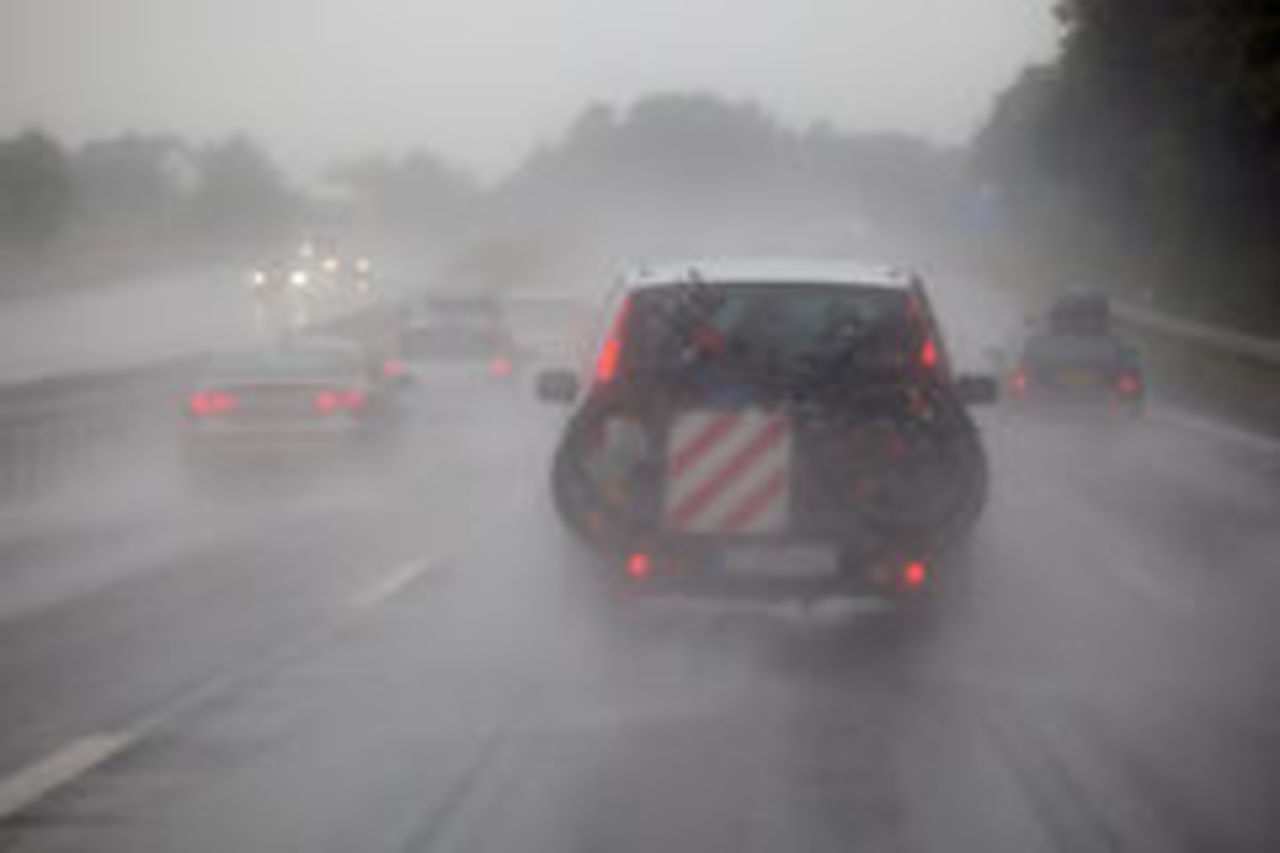car: (532, 260, 998, 715), (187, 336, 401, 495), (988, 320, 1145, 449), (383, 320, 525, 426), (492, 290, 596, 411), (250, 249, 310, 296), (322, 247, 375, 287)
truck: (298, 172, 370, 263)
